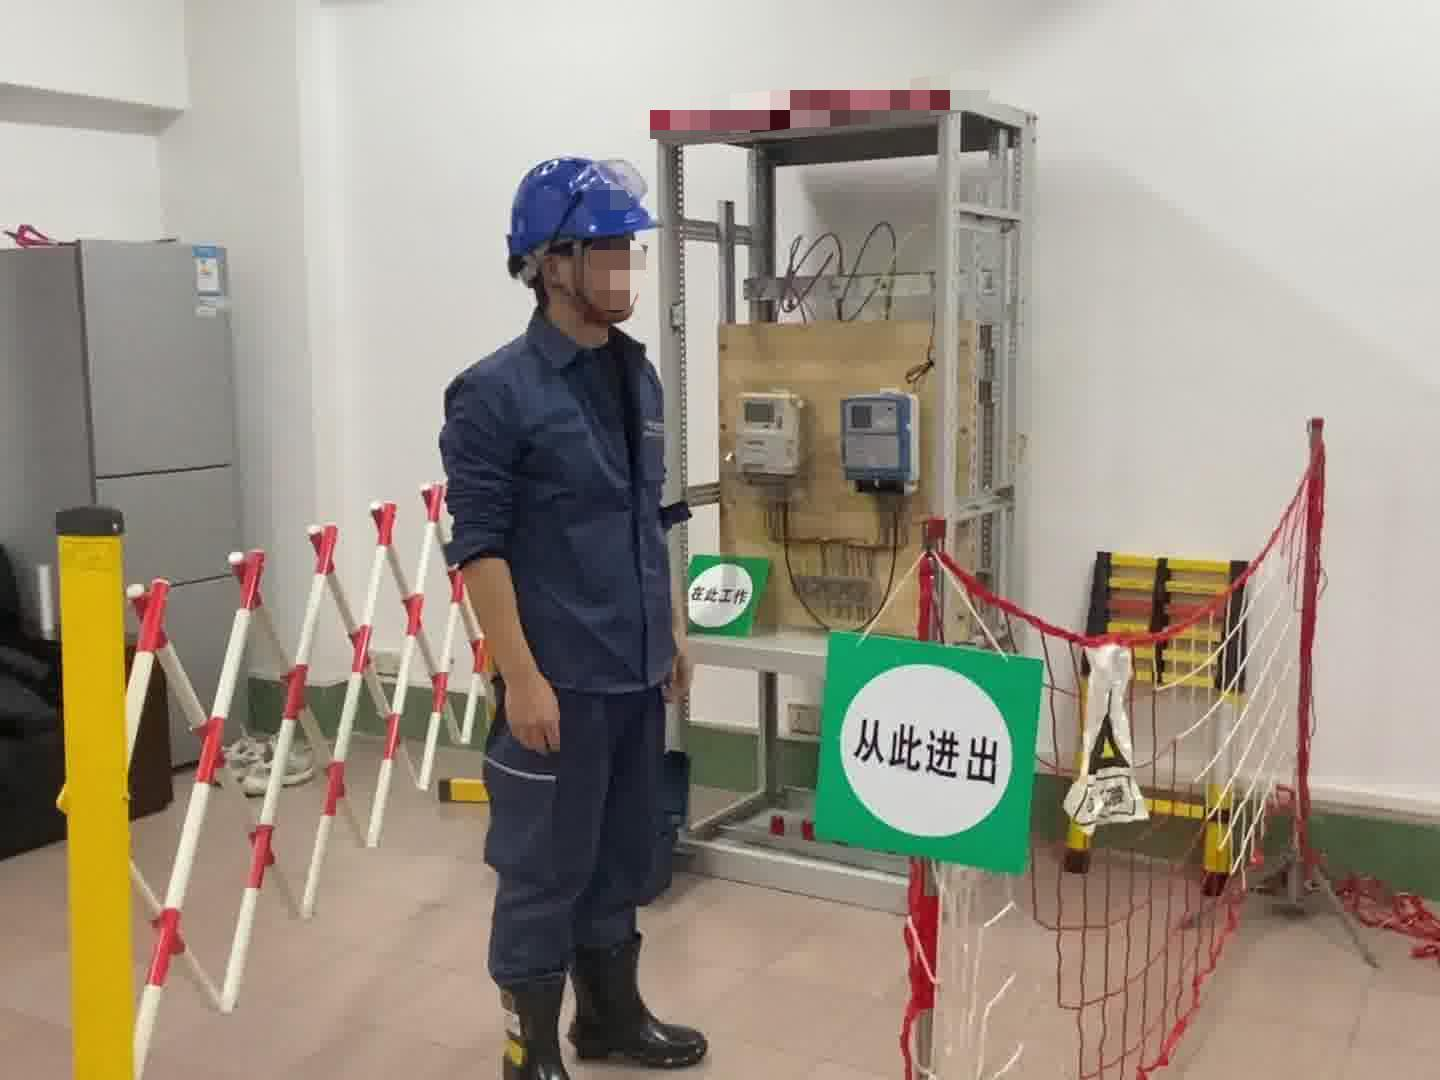halt: (505, 155, 664, 336)
inear: (530, 242, 602, 317)
